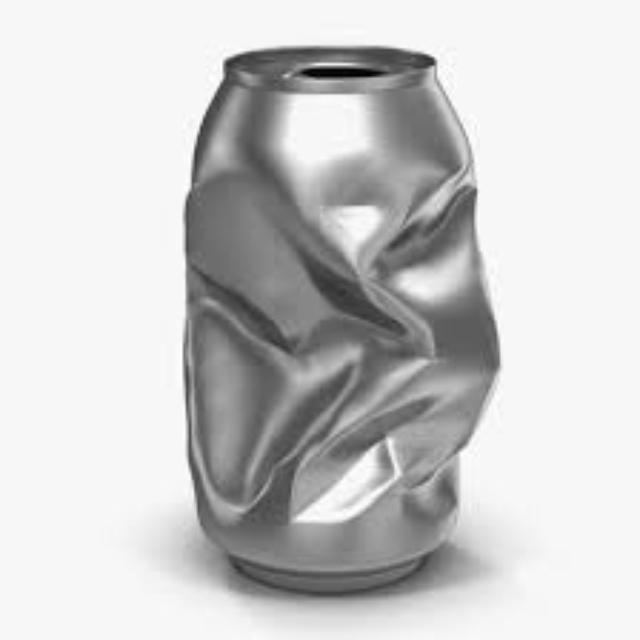metal: (183, 46, 494, 586)
